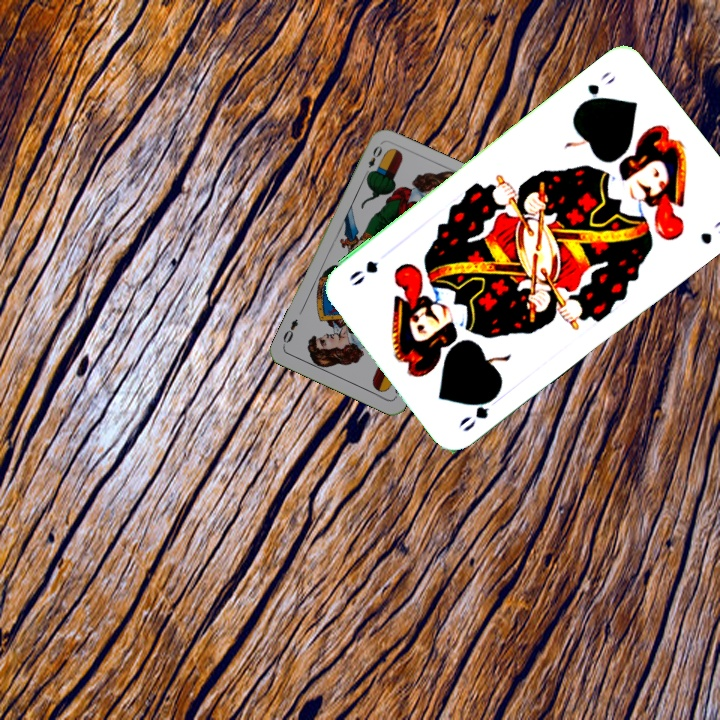EO: (361, 141, 385, 179)
GO: (454, 387, 506, 435), (574, 67, 619, 111)
